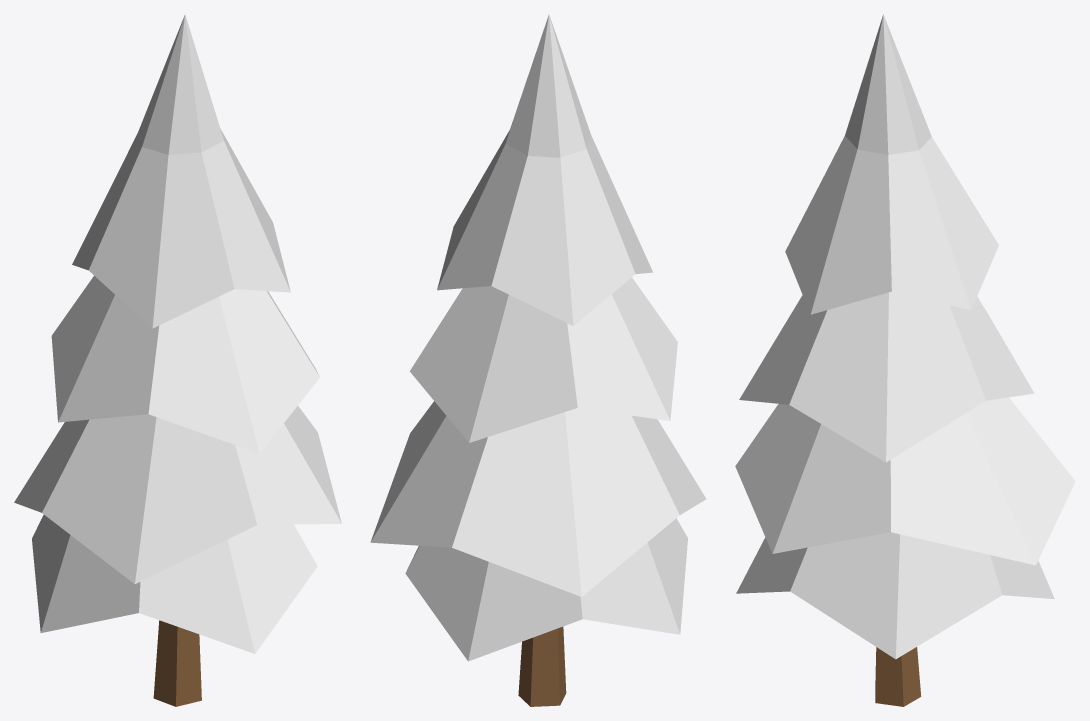
Rendered from Pine_Tree_OneSided_m_Snow_01_LOD.fbx.
3 views of the same model, side by side, from view 1: azimuth 30°, elevation 25°; view 2: azimuth 150°, elevation 25°; view 3: azimuth 270°, elevation 25° (orthographic).
Visible parts, largest first — view 1: Pine_Tree_OneSided_m_Snow_01_LOD0; view 2: Pine_Tree_OneSided_m_Snow_01_LOD0; view 3: Pine_Tree_OneSided_m_Snow_01_LOD0.
Boxes of the visible parts, x1,y1,x2,y2 form: Pine_Tree_OneSided_m_Snow_01_LOD0: (14, 14, 341, 706); Pine_Tree_OneSided_m_Snow_01_LOD0: (370, 14, 706, 706); Pine_Tree_OneSided_m_Snow_01_LOD0: (735, 14, 1075, 706).
Size of what is drawn, in the model's own units: 404 by 964 by 436.
